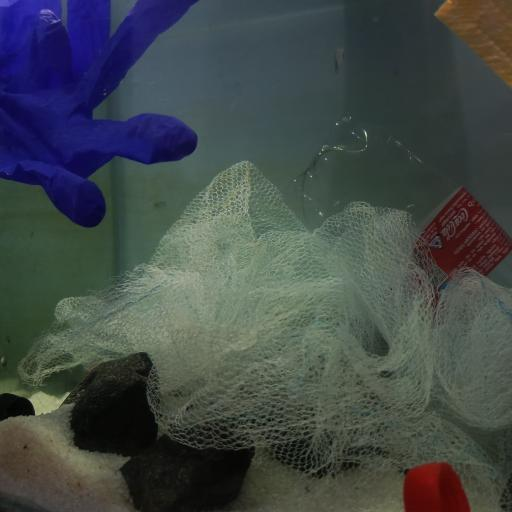bottle_cap: (404, 462, 473, 512)
glove: (0, 0, 200, 228)
mask: (431, 0, 512, 90)
net: (0, 160, 512, 508)
plastic_bottle: (287, 110, 512, 297)
